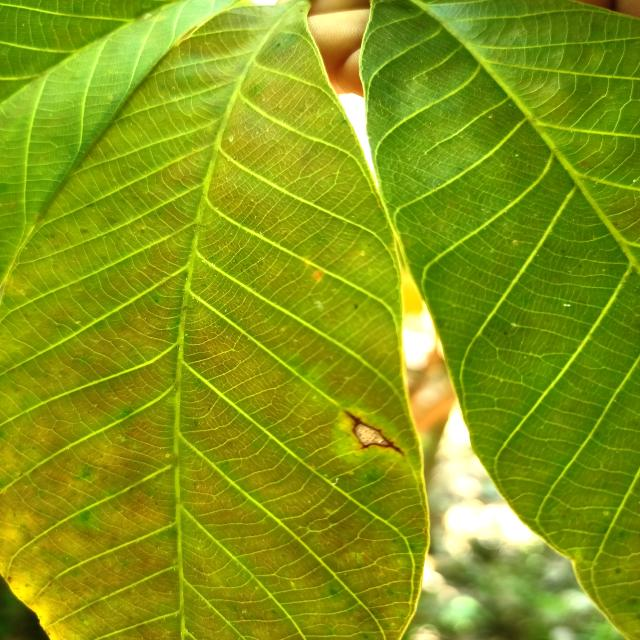Corynespora: (343, 410, 405, 456)
Leaf-Blight: (356, 424, 387, 445)
